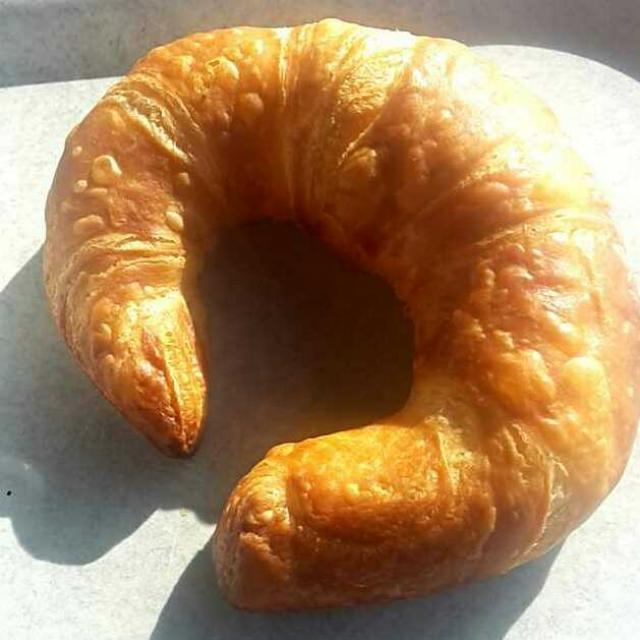croissant: (52, 33, 634, 595)
